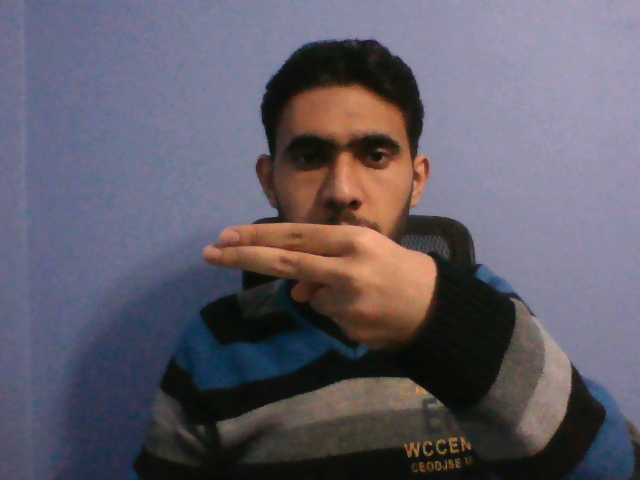H: (192, 219, 446, 351)
